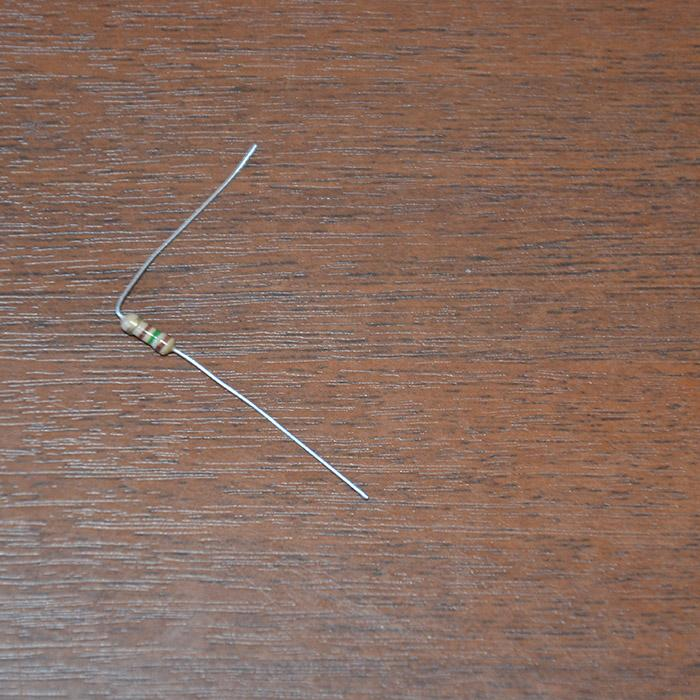resistor: (120, 311, 177, 356)
